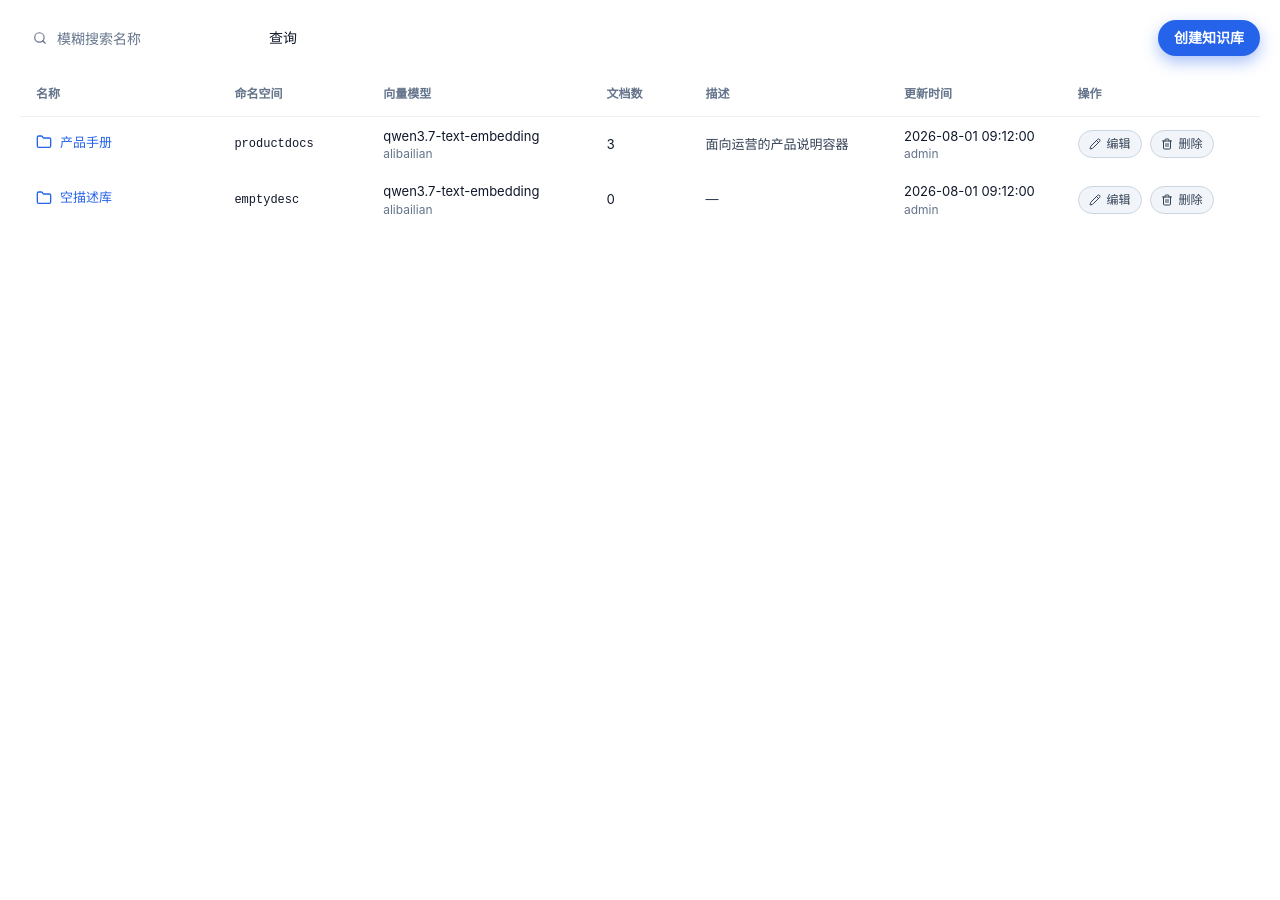
Test: KnowledgeBasesPage › keeps create dialog open on name conflict
The width and height of the screenshot is (1280, 900).
Expected: the text "产品手册" is shown, [60, 133, 112, 152]
Click the button "创建知识库": (1209, 38) [1158, 20, 1260, 56]
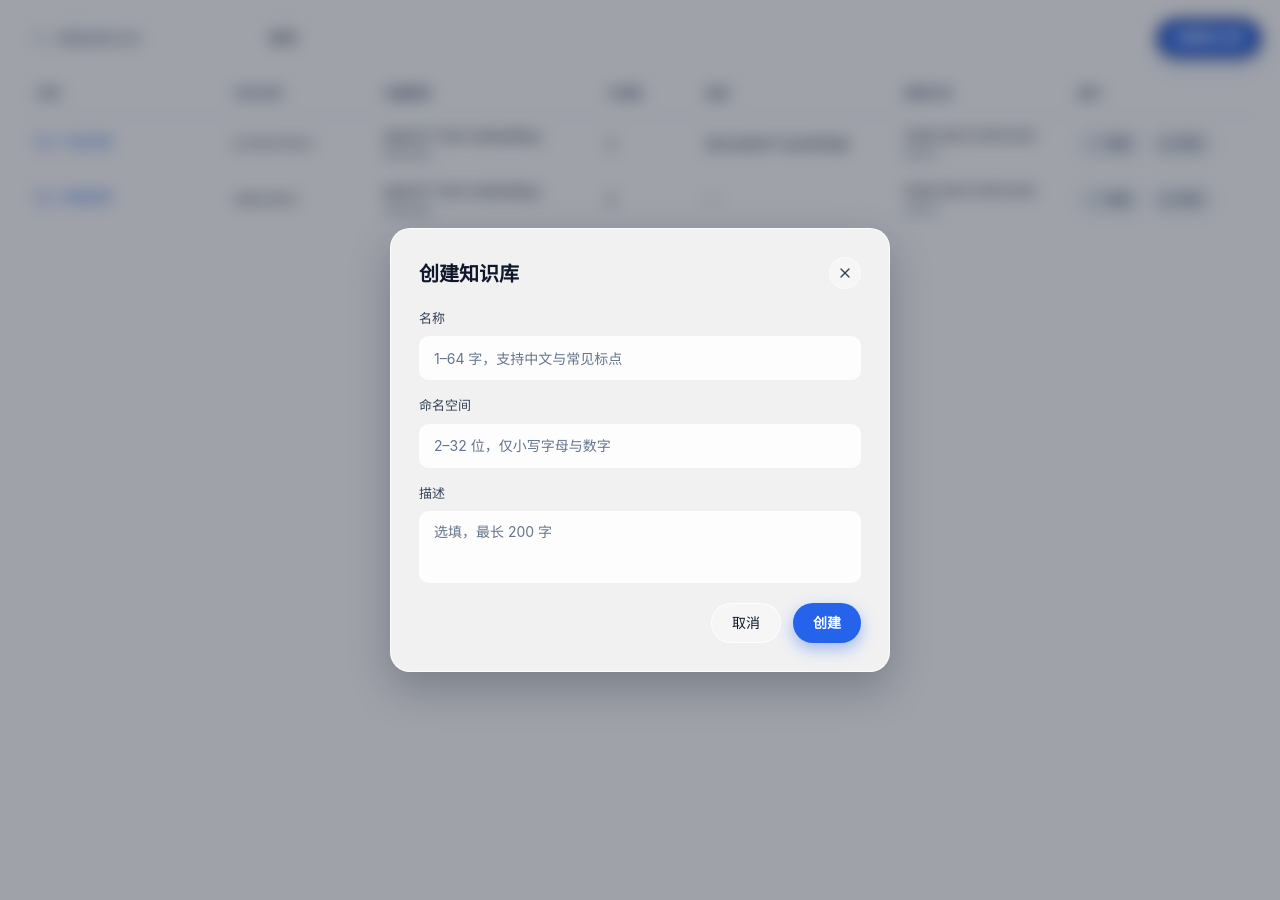
In the field labelled "名称": (640, 358) [434, 337, 846, 379], type "产品手册"
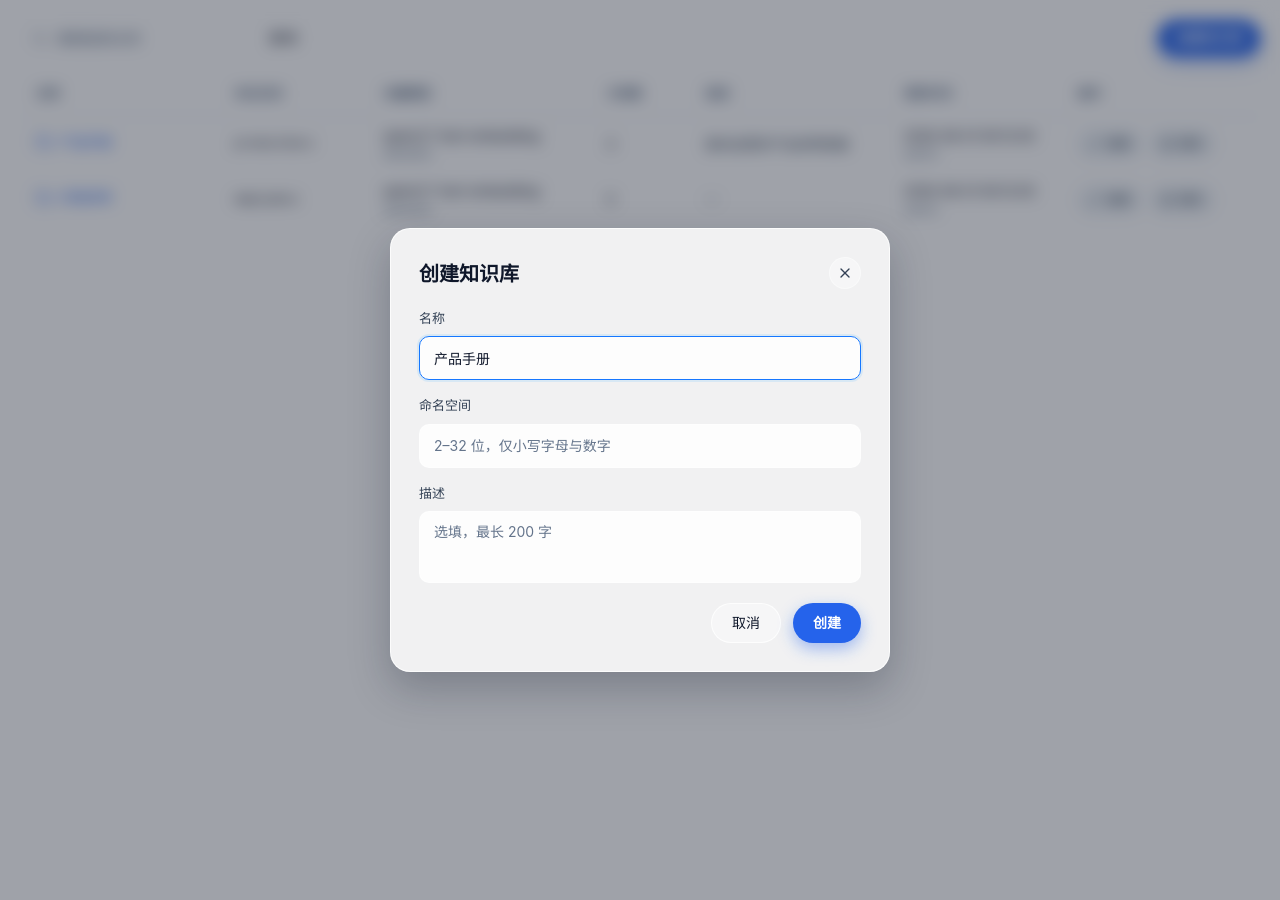
In the field labelled "命名空间": (640, 446) [434, 425, 846, 467], type "otherns"
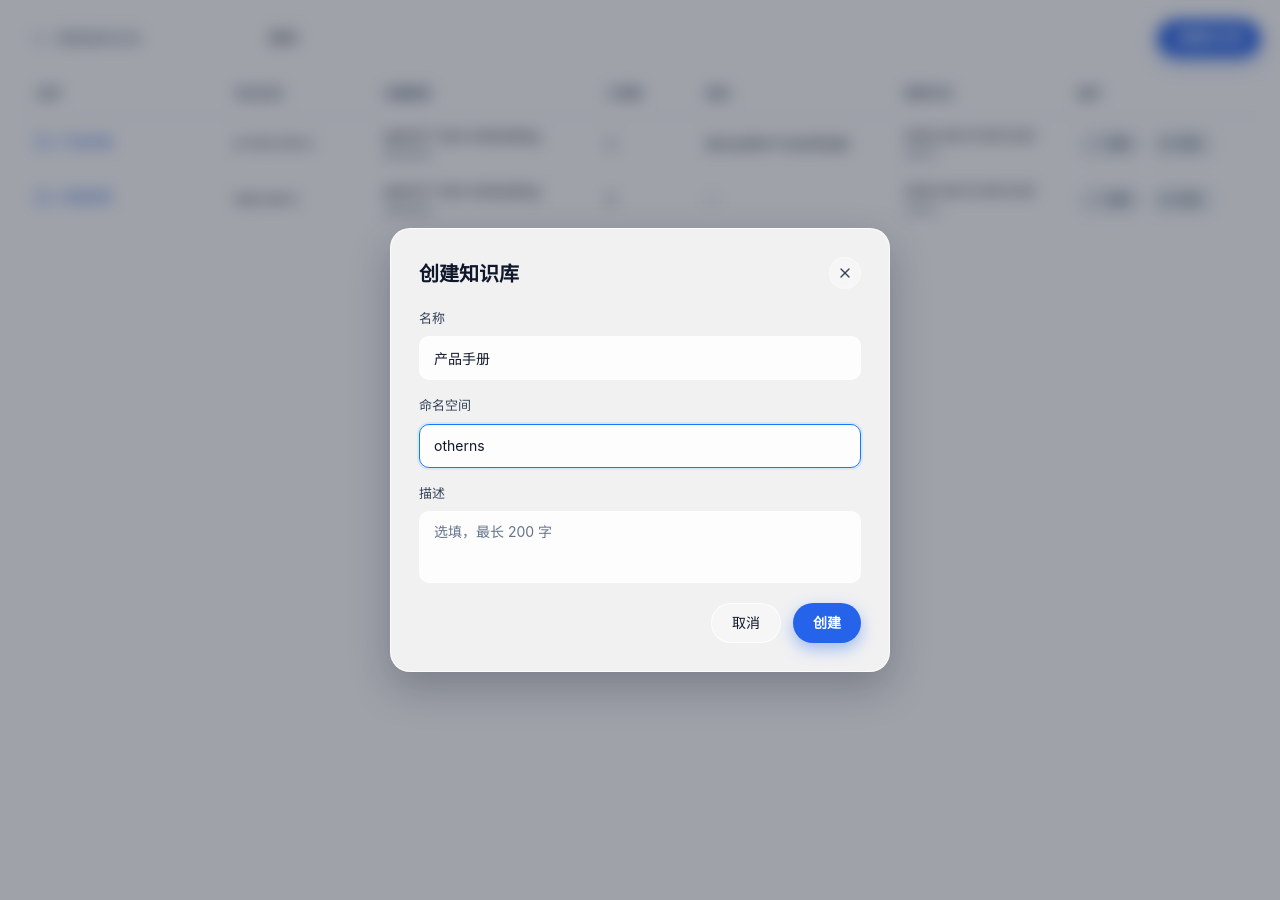
Click the button "创建": (827, 623) [793, 603, 861, 643]
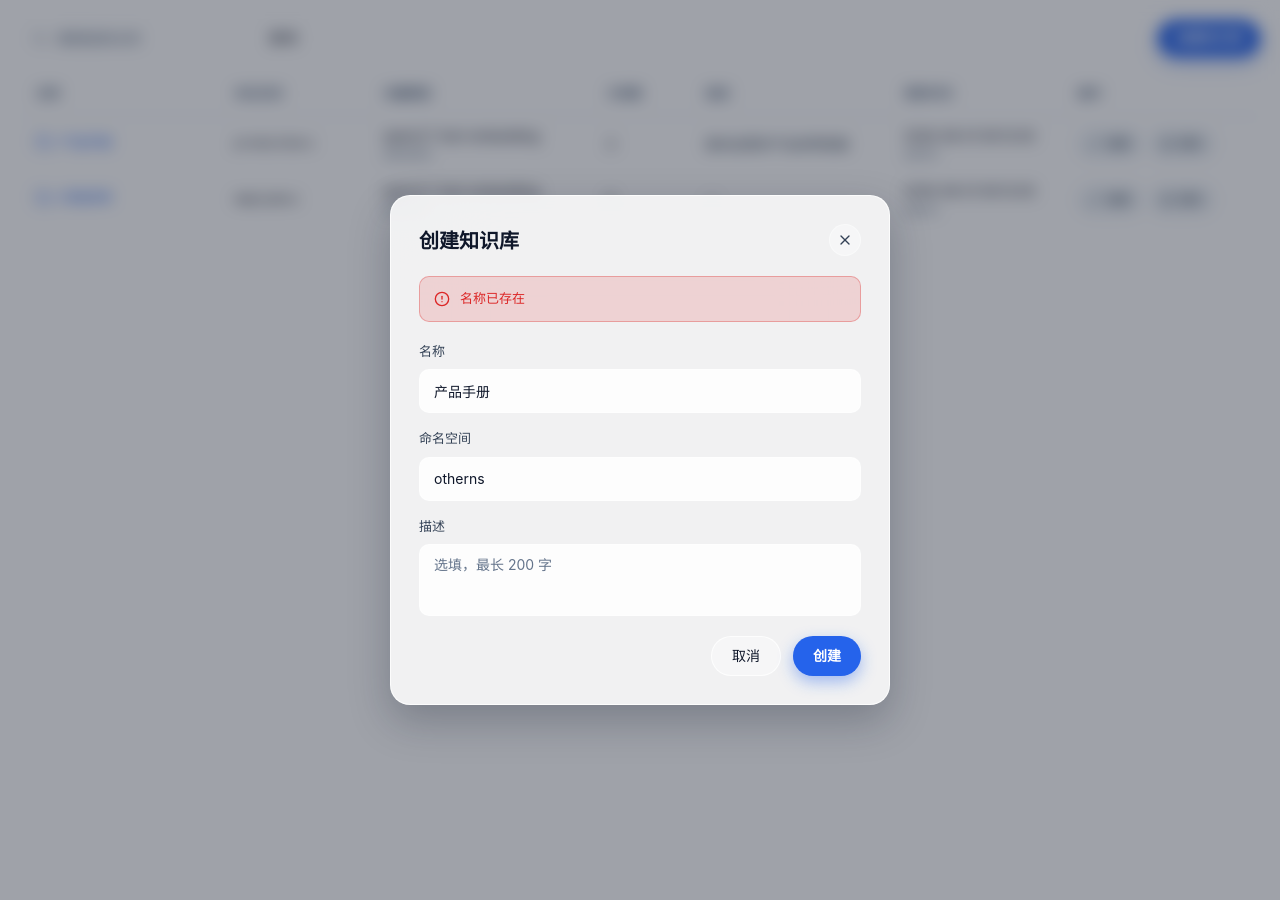
Expected: the dialog "创建知识库" is shown, [390, 195, 890, 705]
Expected: the message reads "名称已存在", [460, 290, 525, 306]
